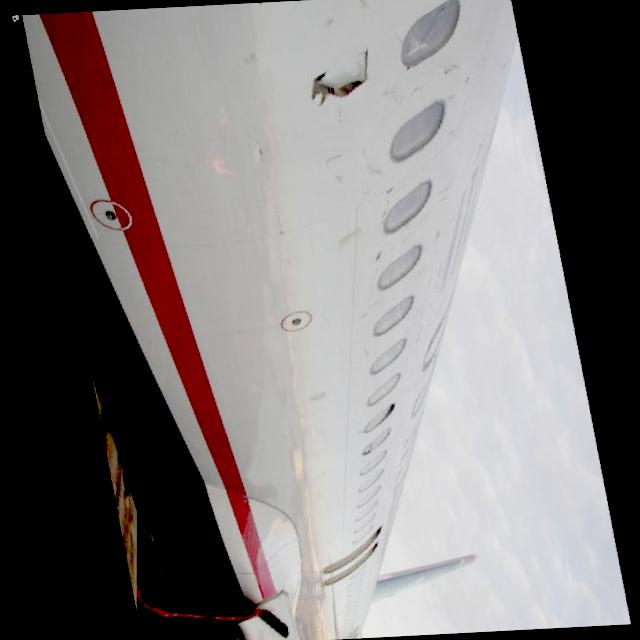crack: (298, 42, 378, 118)
